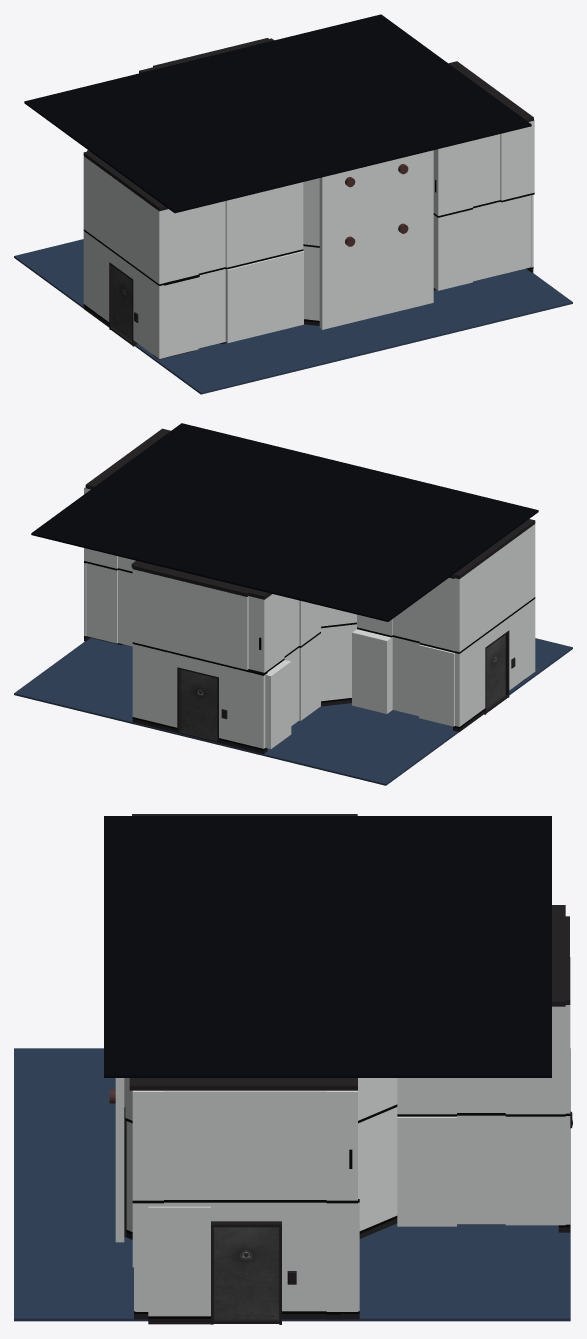
The model's file is SCP 3 Hallways.obj.
3 renders of one model, top to bottom at view 1: azimuth 30°, elevation 25°; view 2: azimuth 150°, elevation 25°; view 3: azimuth 270°, elevation 25°, orthographic. The views are drawn at different scales.
Parts seen in each view (by area): view 1: Part37, Part14, Part67, Part18, Part9, Part26, Part152, Part154, Part146, Part191, Part22, Part193 (+13 smaller); view 2: Part37, Part14, Part23, Part18, Part111, Part33, Part185, Part106, Part96, Door3, Part62, Part79 (+20 smaller); view 3: Part37, Part14, Part11, Part40, Part100, Part172, Door5, Part176, Part128, Part55, Part193, Part64 (+13 smaller).
Boxes of the visible parts, box(x1,y1,x2,y2) form: Part37: box(24, 14, 531, 213); Part14: box(14, 239, 572, 394); Part67: box(319, 150, 433, 329); Part18: box(83, 156, 165, 284); Part9: box(225, 251, 303, 342); Part26: box(225, 182, 303, 267); Part152: box(433, 209, 472, 290); Part154: box(433, 140, 472, 215); Part146: box(166, 277, 198, 357); Part191: box(500, 195, 533, 274); Part22: box(133, 267, 165, 358); Part193: box(500, 119, 534, 200); Part37: box(31, 423, 538, 621); Part14: box(14, 638, 572, 785); Part23: box(132, 569, 248, 669); Part18: box(455, 524, 535, 652); Part111: box(219, 665, 265, 748); Part33: box(132, 644, 177, 727); Part185: box(352, 629, 392, 713); Part106: box(419, 644, 454, 726); Part96: box(248, 594, 284, 672); Door3: box(180, 669, 217, 739); Part62: box(86, 563, 117, 643); Part79: box(321, 624, 356, 701); Part37: box(104, 816, 551, 1077); Part14: box(14, 1048, 570, 1321); Part11: box(134, 1090, 330, 1199); Part40: box(148, 1206, 210, 1316); Part100: box(505, 1116, 565, 1225); Part172: box(397, 1116, 456, 1226); Door5: box(213, 1227, 279, 1319); Part176: box(457, 1115, 505, 1224); Part128: box(282, 1202, 359, 1311); Part55: box(358, 1107, 397, 1230); Part193: box(132, 1090, 163, 1200); Part64: box(326, 1090, 357, 1200).
Size of the model in its own units: 46.16 by 18.4 by 39.17.
11 materials, 2 textured.
